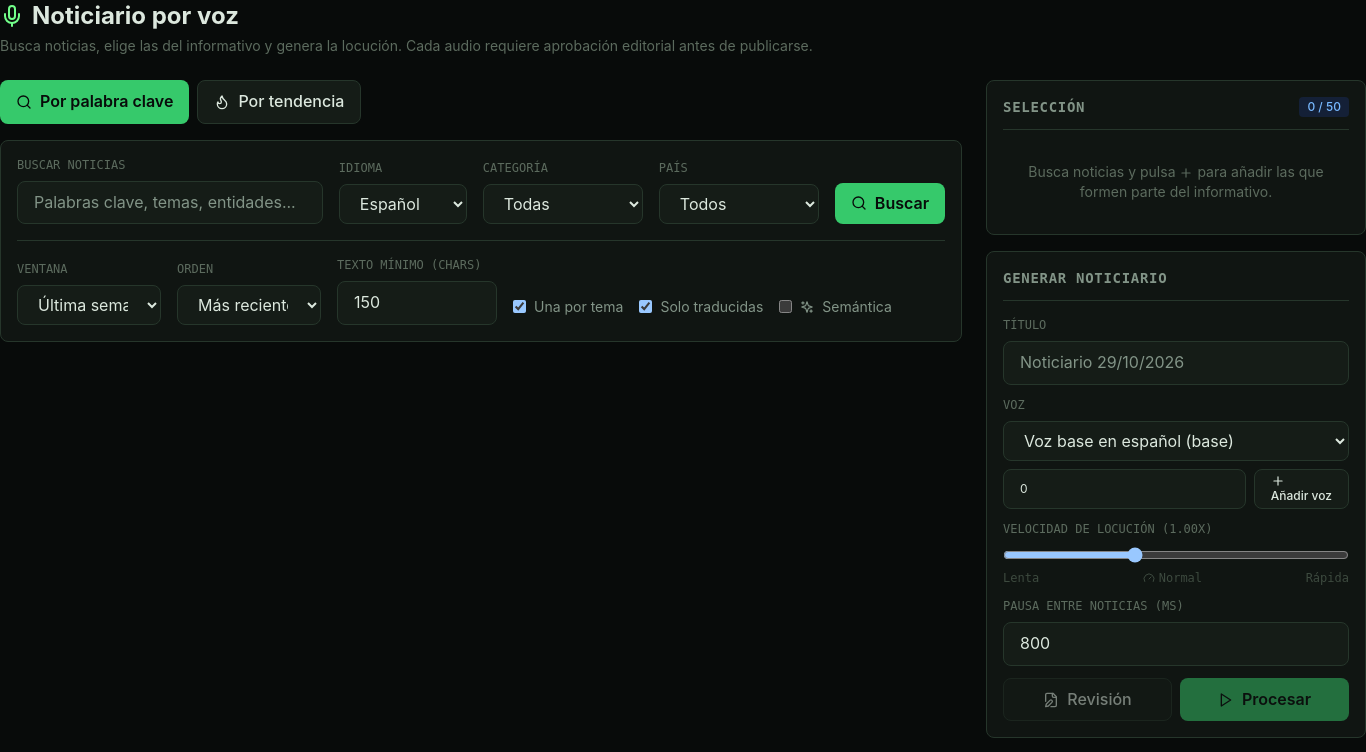
Pagina de noticiario › ofrece el modo tendencias con las historias agrupadas
Click the button "Por tendencia" at (279, 102), box [197,80,361,124]
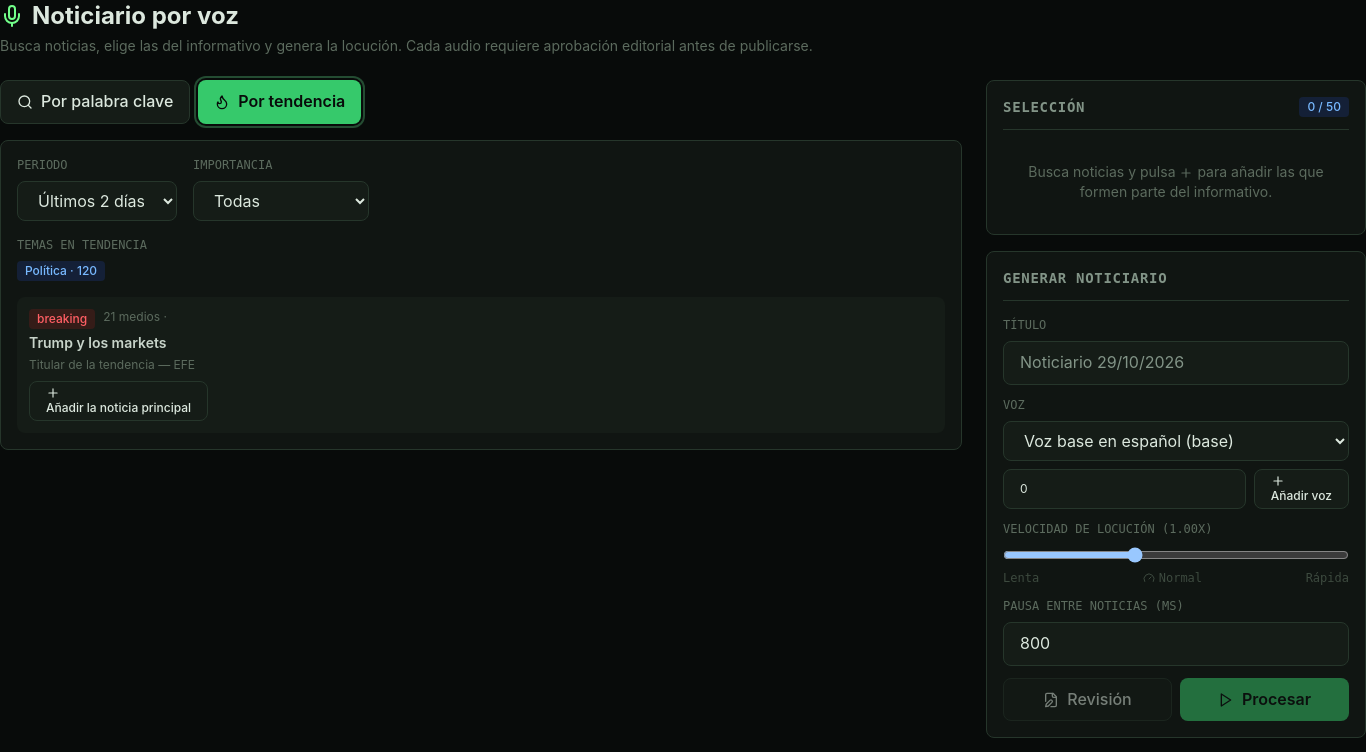
Result: the text "Titular de la tendencia — EFE" is shown at [29,357,195,372]
Result: the text "Política · 120" is shown at [17,261,105,281]
// Y se puede añadir la noticia principal de la historia.
Click the button "Añadir la noticia principal" at (119, 401), box [29,381,208,421]
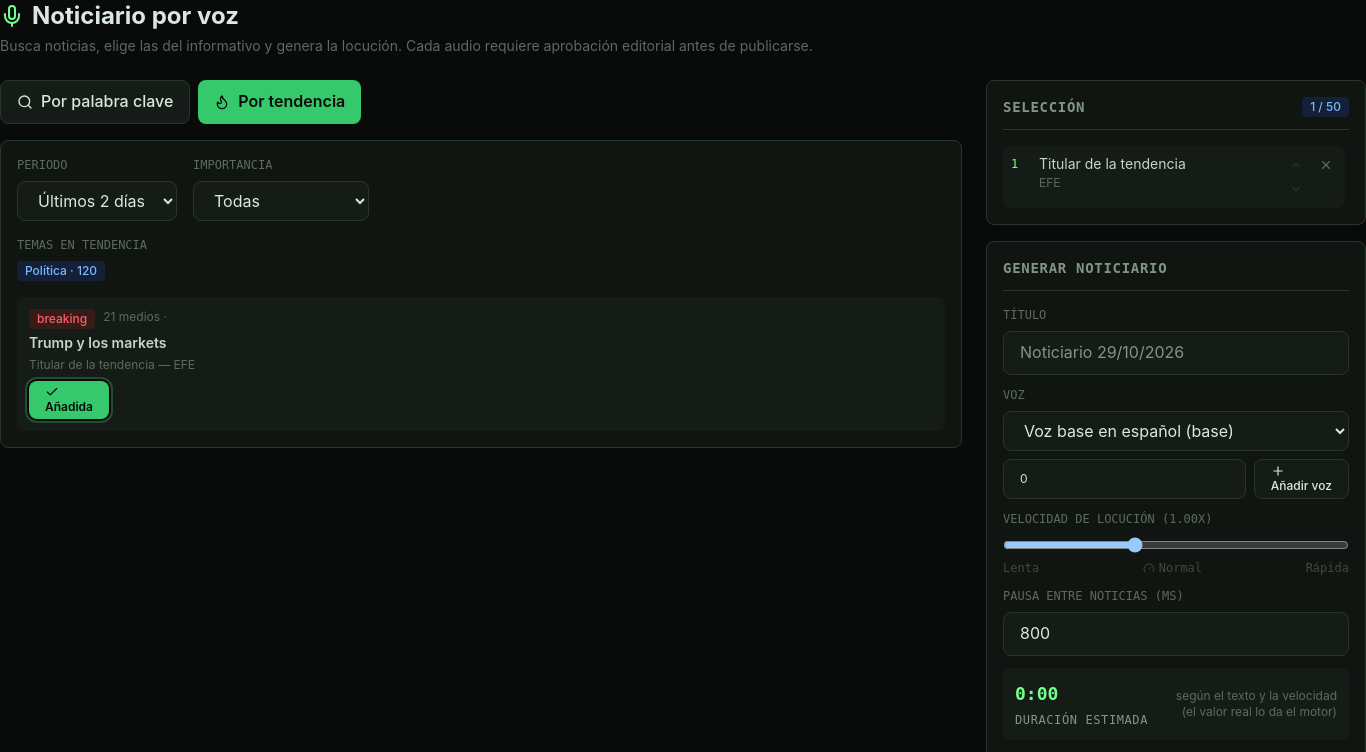
Result: the text "1 / 50" is shown at [1302,97,1349,117]
